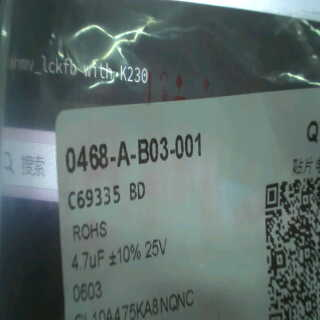4.7uF: (68, 246, 107, 275)
